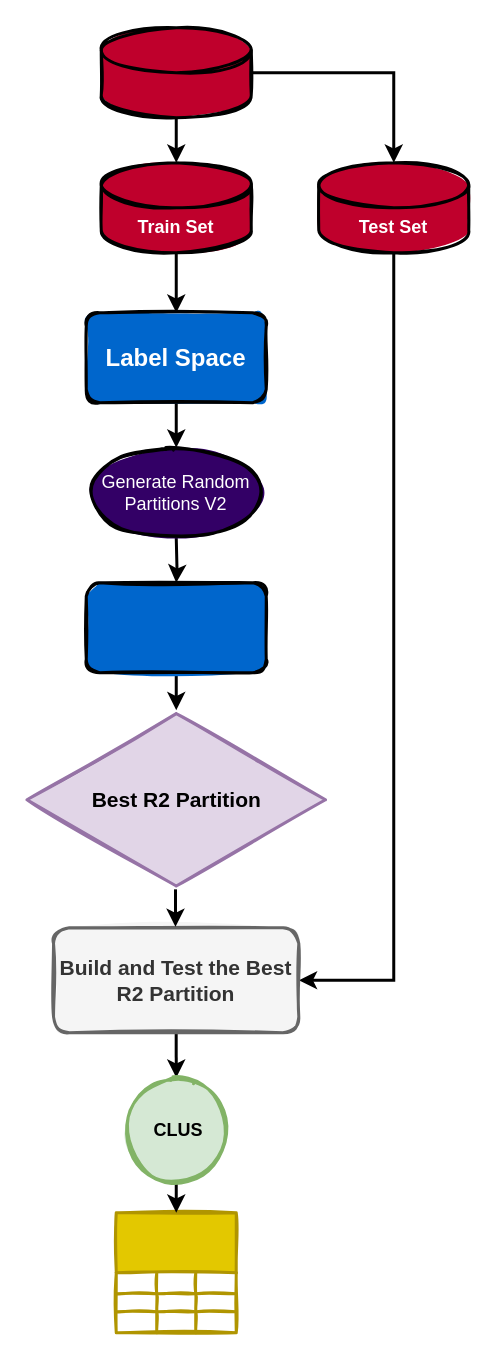
Some shapes in this 497 by 1359 pixel diagram are drawn without their labels. Each missing label, with the centre of its shape:
"Dataset" belongs at (x=175, y=72).
"Results" belongs at (x=175, y=1272).
"Silhouete" belongs at (x=175, y=627).
